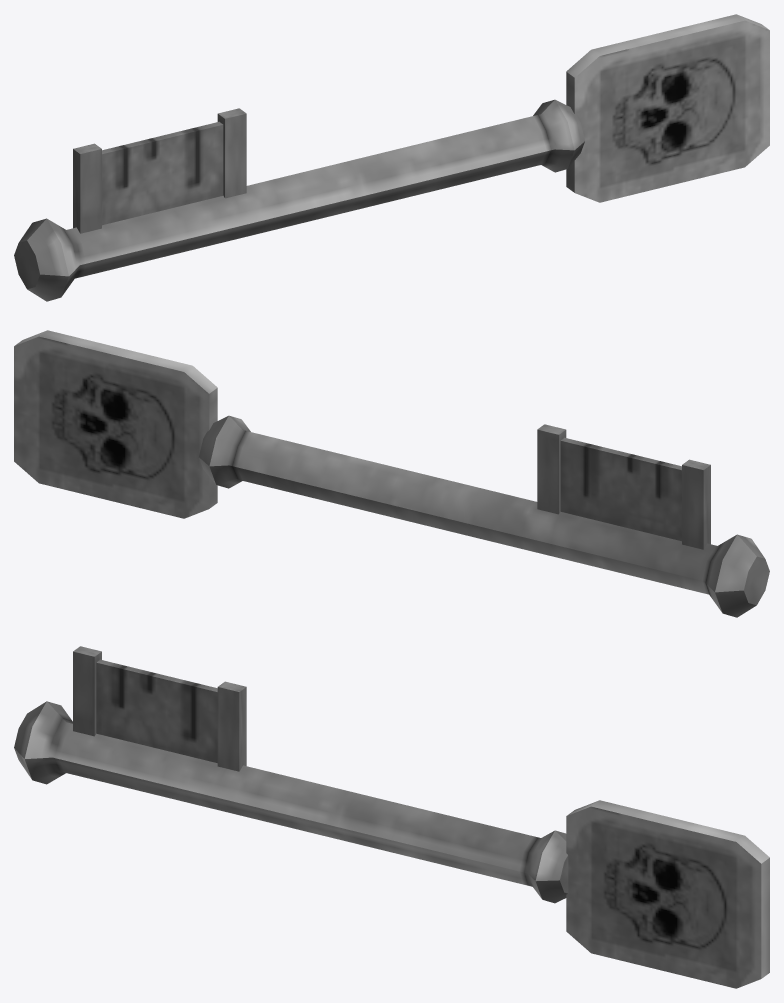
The model's file is clé.fbx.
3 renders of one model, top to bottom at view 1: azimuth 30°, elevation 25°; view 2: azimuth 150°, elevation 25°; view 3: azimuth 330°, elevation 25°, orthographic.
Visible parts, largest first — view 1: clé; view 2: clé; view 3: clé.
Boxes of the visible parts, x1,y1,x2,y2 form: clé: (14, 14, 769, 301); clé: (14, 330, 769, 617); clé: (14, 646, 769, 988).
Size of the model in its own units: 446 by 101 by 46.49.
1 material, 1 textured.
